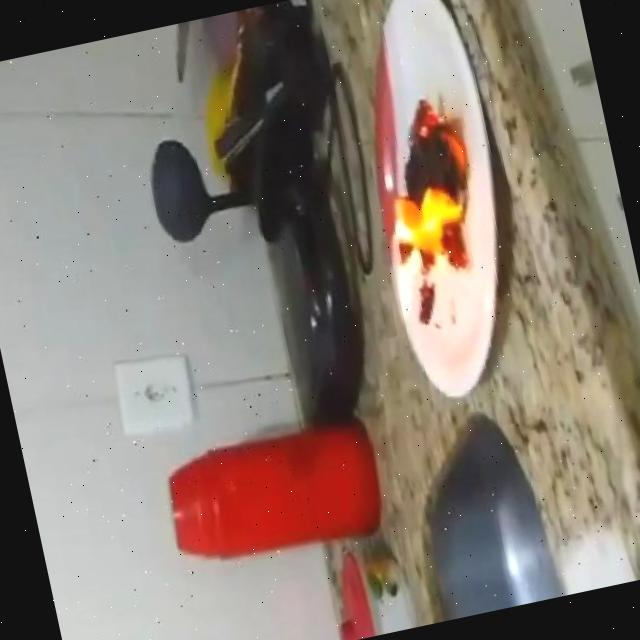fire: (340, 71, 508, 337)
